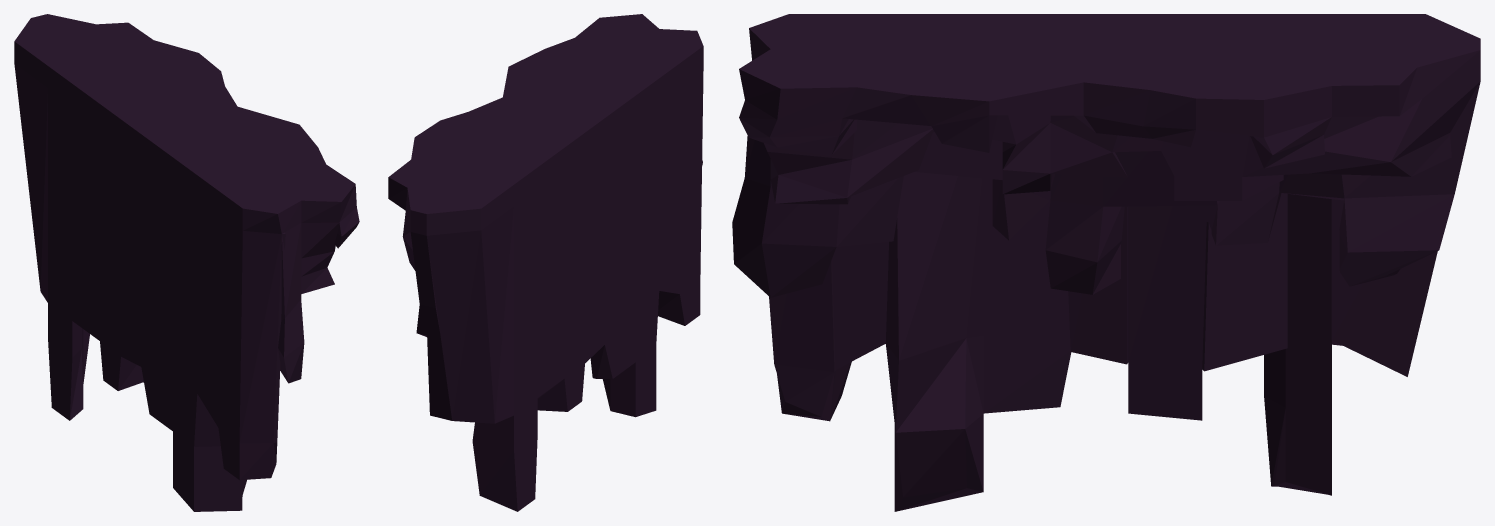
The model's file is Cteto.fbx.
3 renders of one model, left to right at view 1: azimuth 30°, elevation 25°; view 2: azimuth 150°, elevation 25°; view 3: azimuth 270°, elevation 25°, orthographic. The views are drawn at different scales.
Visible parts, largest first — view 1: pCube3; view 2: pCube3; view 3: pCube3.
Part boxes in pixels (x1,y1,x2,y2): pCube3: (14, 14, 359, 511); pCube3: (388, 14, 703, 511); pCube3: (732, 14, 1480, 511).
Size of the model in its own units: 2.61 by 6.59 by 9.46.
